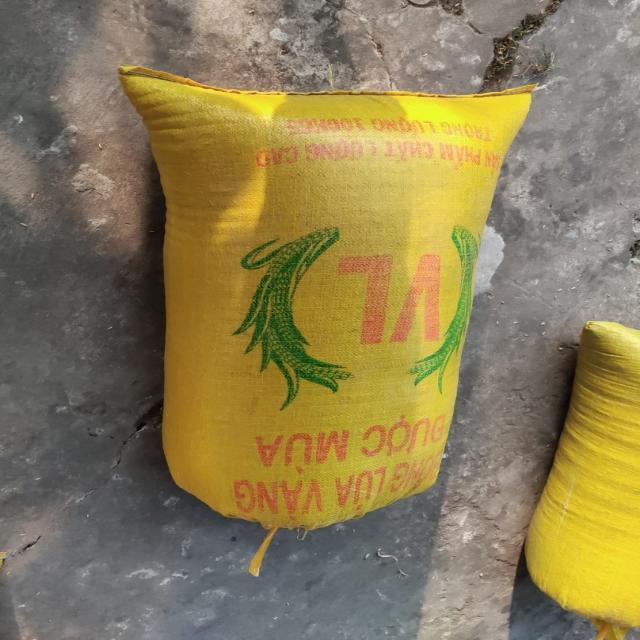gunny_bag: (118, 65, 535, 530)
